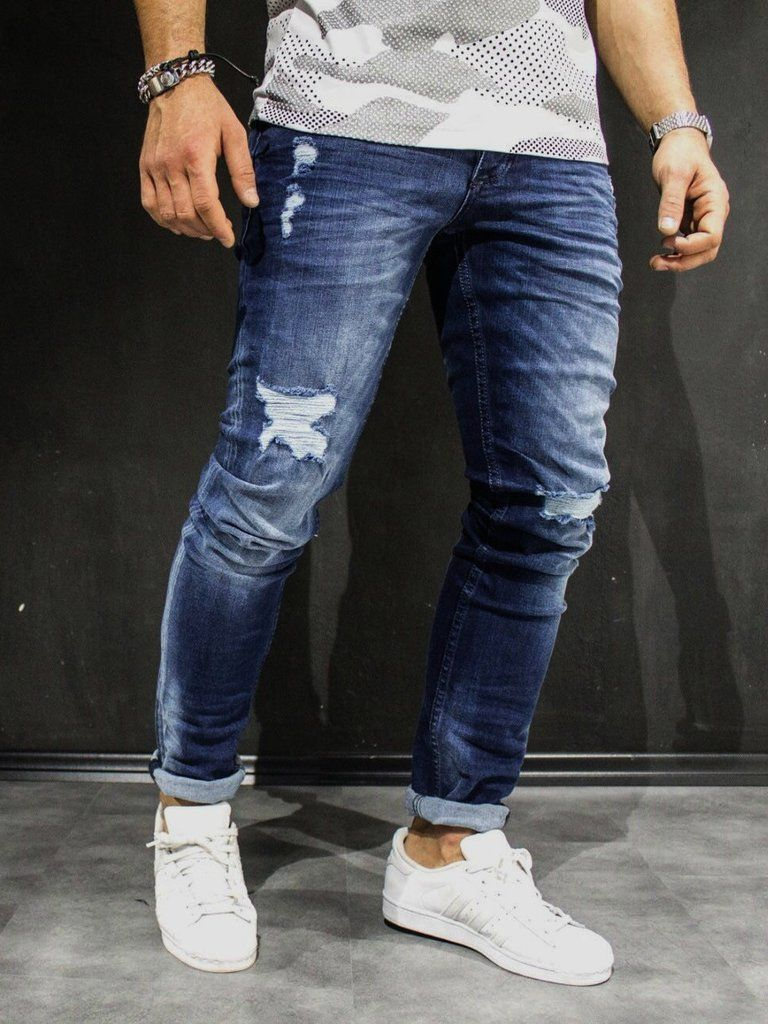Jeans: (149, 120, 633, 837)
